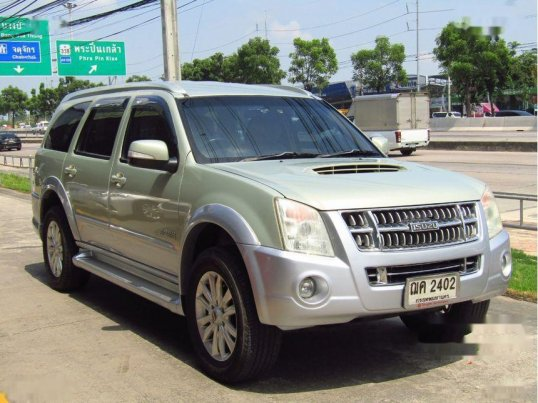pickup: (31, 79, 511, 386)
